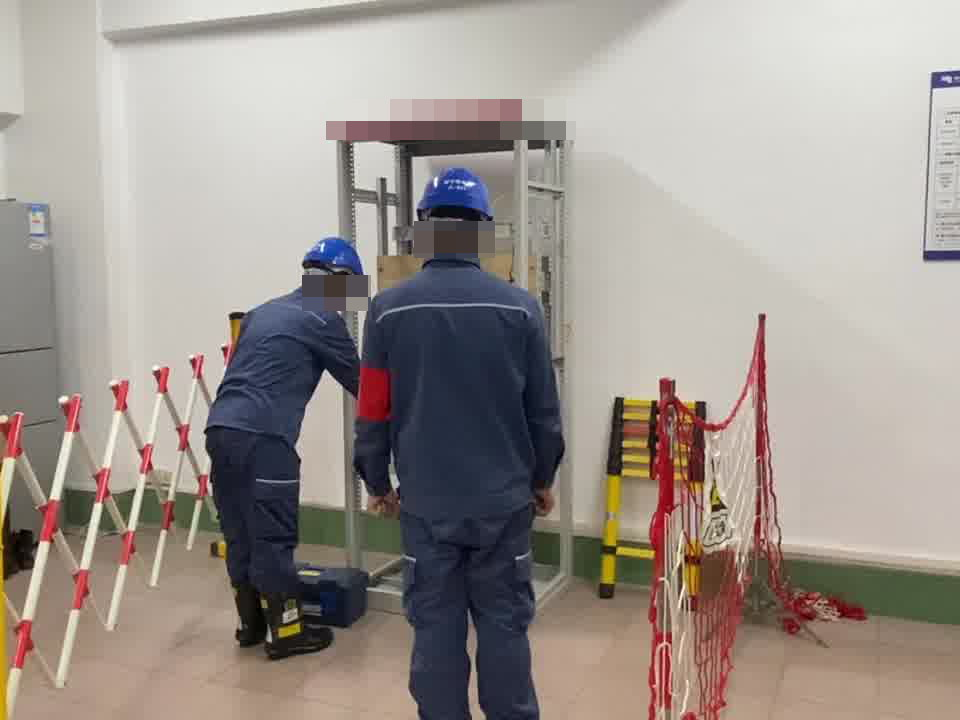badge: (356, 365, 394, 424)
downsuit: (403, 532, 544, 720), (209, 438, 308, 599)
halt: (413, 164, 498, 258), (300, 238, 370, 309)
hand: (361, 491, 403, 520), (533, 490, 557, 521)
inear: (324, 263, 354, 304)
person: (360, 162, 571, 720), (203, 234, 370, 667)
shoe: (228, 589, 336, 660)
upsuit: (355, 251, 566, 519), (209, 286, 357, 429)
